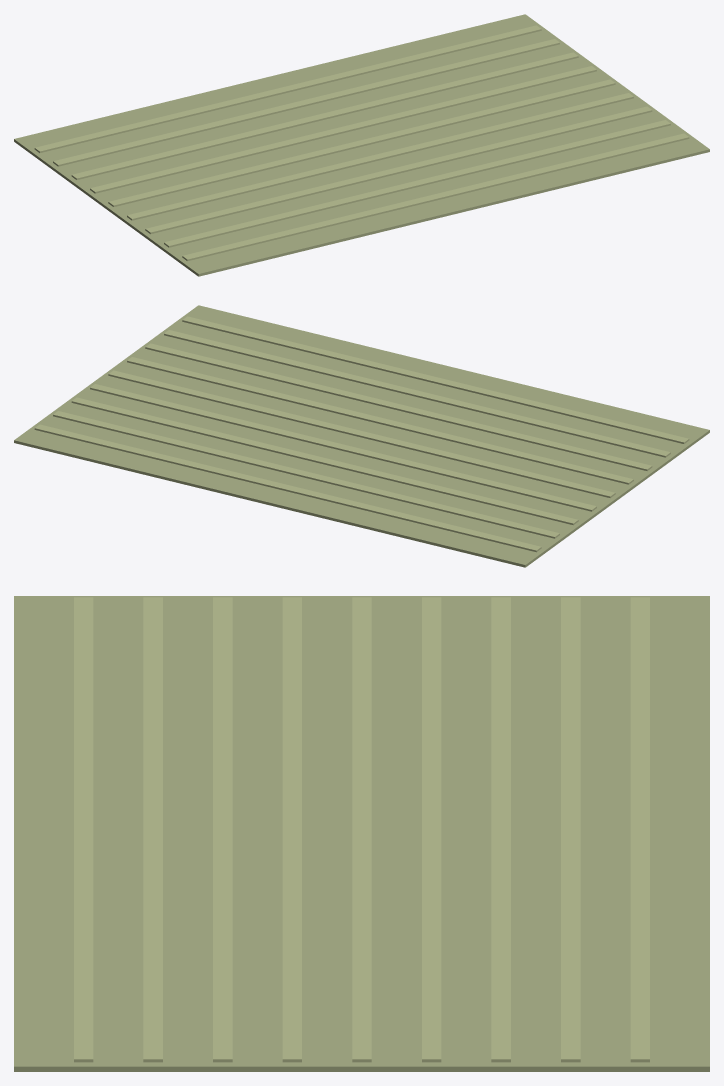
The model's file is crop-3.glb.
3 views of the same model, one above another, from view 1: azimuth 30°, elevation 25°; view 2: azimuth 150°, elevation 25°; view 3: azimuth 270°, elevation 25° (orthographic). The views are drawn at different scales.
Bounding box in the file's own units: 16 × 0.13 × 10.
